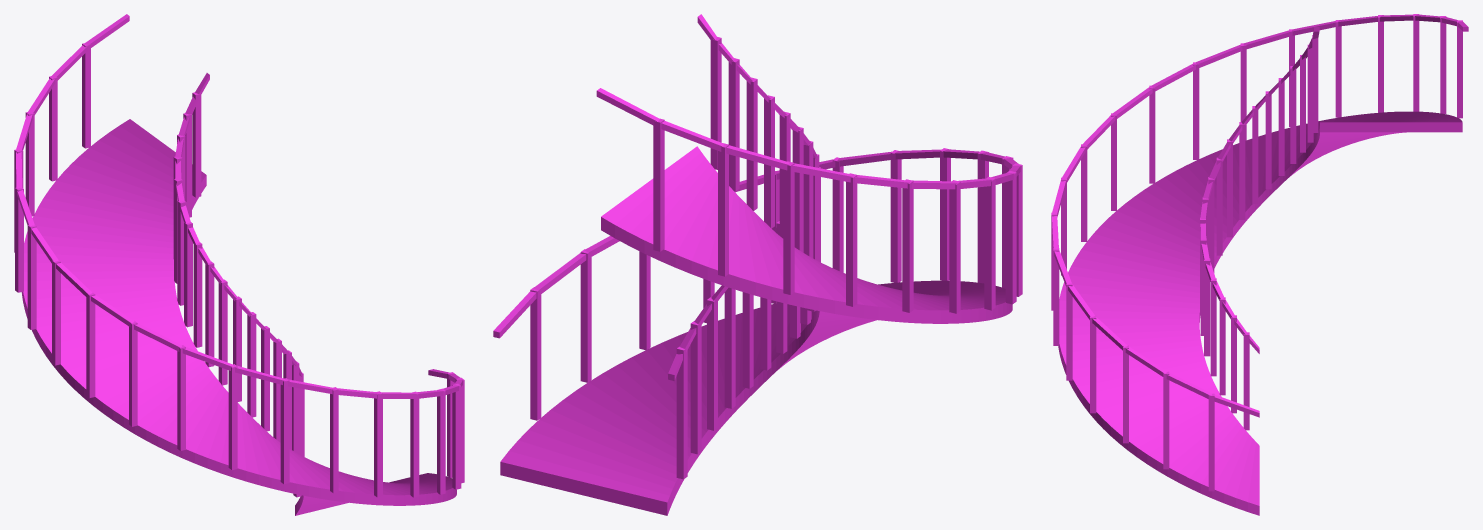
Rendered from yx_spiral_collision.glb.
3 renders of one model, left to right at view 1: azimuth 30°, elevation 25°; view 2: azimuth 150°, elevation 25°; view 3: azimuth 270°, elevation 25°, orthographic. The views are drawn at different scales.
Parts seen in each view (by area): view 1: yx_spiral_collision; view 2: yx_spiral_collision; view 3: yx_spiral_collision.
Part boxes in pixels (x1,y1,x2,y2): yx_spiral_collision: [14, 14, 464, 515]; yx_spiral_collision: [493, 14, 1022, 515]; yx_spiral_collision: [1051, 14, 1468, 515].
Size of the model in its own units: 3.81 by 4.06 by 3.81.
